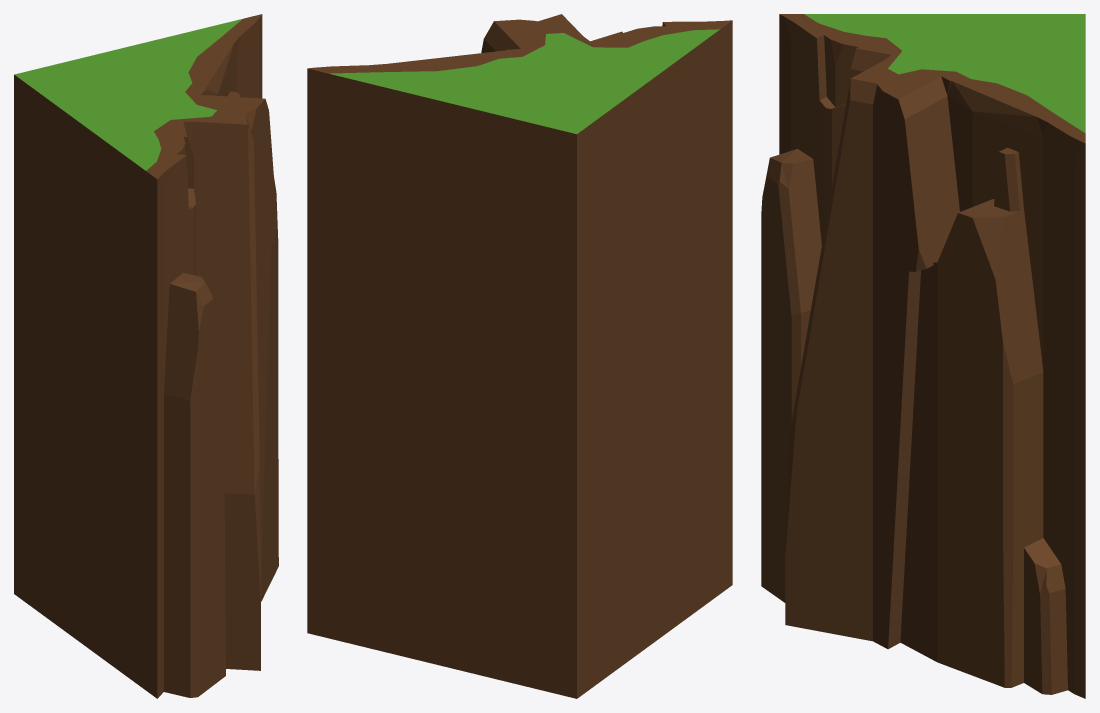
The model's file is Cliff x2 6.fbx.
The picture shows the model from 3 angles, left to right: view 1: azimuth 30°, elevation 25°; view 2: azimuth 150°, elevation 25°; view 3: azimuth 270°, elevation 25°; orthographic projection. The views are drawn at different scales.
Parts seen in each view (by area): view 1: Cliff x2 6; view 2: Cliff x2 6; view 3: Cliff x2 6.
Boxes of the visible parts, <box> form: Cliff x2 6: <box>14,14,278,698</box>; Cliff x2 6: <box>307,14,732,698</box>; Cliff x2 6: <box>761,14,1085,698</box>.
Bounding box in the file's own units: 200 × 400 × 212.
